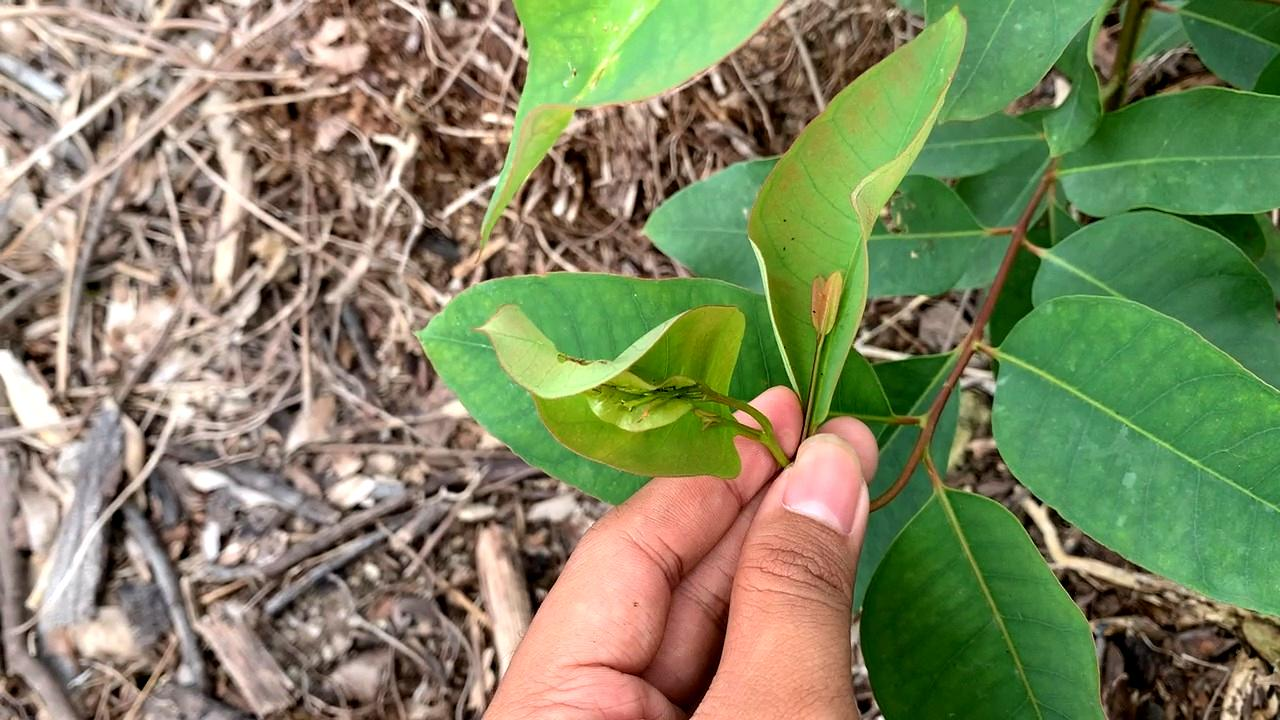Leaf Roller - Leaf: (508, 282, 769, 489)
